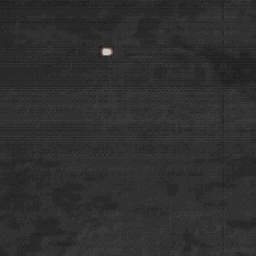Target: (101, 47, 111, 57)
